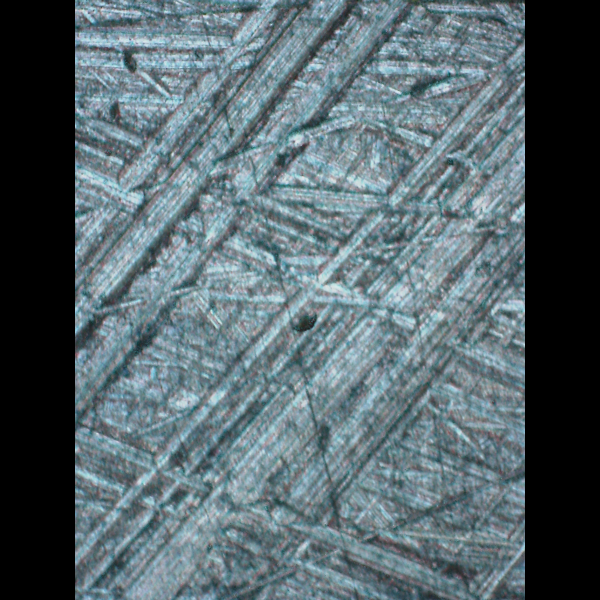d: (79, 0, 524, 587)
